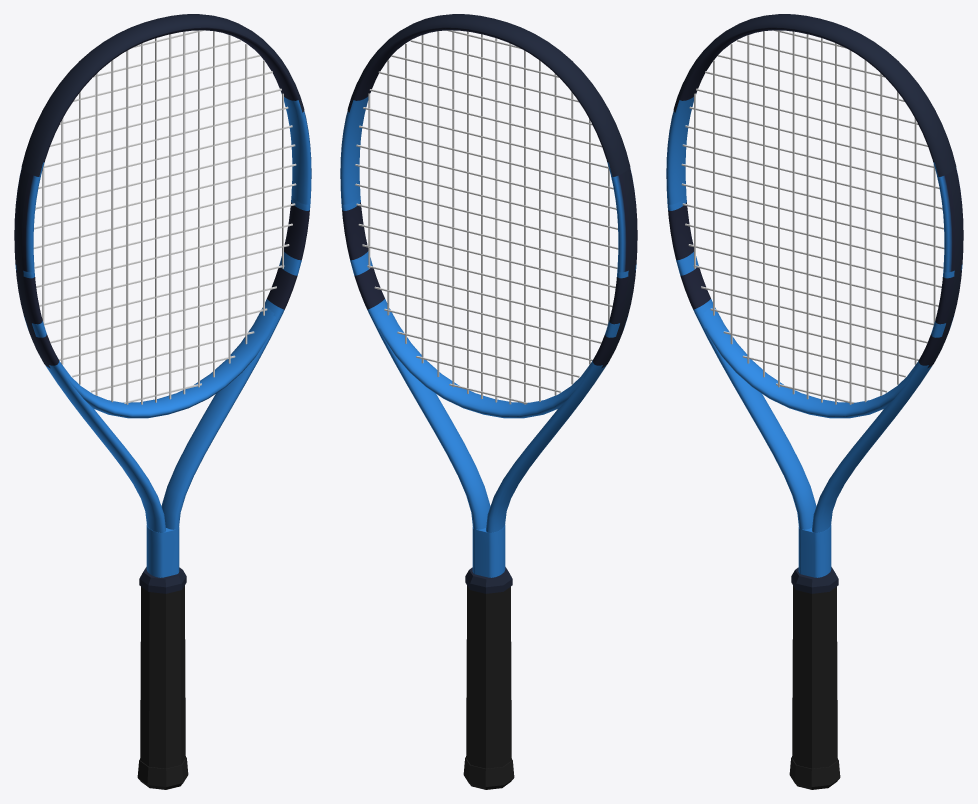
The model's file is babolat-pure-drive-110-2021.glb.
3 renders of one model, left to right at view 1: azimuth 30°, elevation 25°; view 2: azimuth 150°, elevation 25°; view 3: azimuth 330°, elevation 25°, orthographic.
Parts seen in each view (by area): view 1: frame, strings_mains, strings_crosses, grip, bumper, grommets, butt_cap, collar; view 2: frame, strings_mains, strings_crosses, grip, bumper, grommets, butt_cap, collar; view 3: frame, strings_mains, strings_crosses, grip, bumper, grommets, butt_cap, collar.
Boxes of the visible parts, left/top/right/bottom form: frame: left=14, top=27, right=311, bottom=577; strings_mains: left=42, top=30, right=283, bottom=404; strings_crosses: left=33, top=30, right=296, bottom=403; grip: left=140, top=585, right=185, bottom=768; bumper: left=21, top=14, right=304, bottom=176; grommets: left=15, top=169, right=50, bottom=368; butt_cap: left=137, top=757, right=188, bottom=789; collar: left=139, top=567, right=186, bottom=593; frame: left=340, top=27, right=637, bottom=577; strings_mains: left=368, top=30, right=609, bottom=404; strings_crosses: left=355, top=30, right=618, bottom=404; grip: left=466, top=585, right=511, bottom=768; bumper: left=347, top=14, right=630, bottom=176; grommets: left=601, top=169, right=636, bottom=368; butt_cap: left=463, top=757, right=514, bottom=789; collar: left=465, top=567, right=512, bottom=593; frame: left=666, top=27, right=963, bottom=577; strings_mains: left=694, top=30, right=935, bottom=404; strings_crosses: left=681, top=30, right=944, bottom=403; grip: left=792, top=585, right=837, bottom=768; bumper: left=673, top=14, right=956, bottom=176; grommets: left=927, top=169, right=962, bottom=368; butt_cap: left=789, top=757, right=840, bottom=789; collar: left=791, top=567, right=838, bottom=593.
Size of the model in its own units: 0.2797 by 0.7013 by 0.0396.
